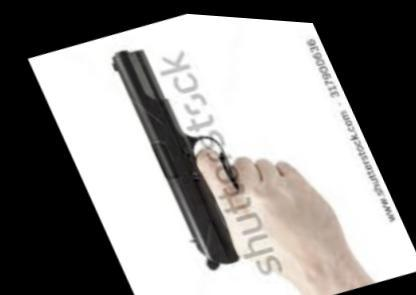pistol: (101, 24, 278, 280)
